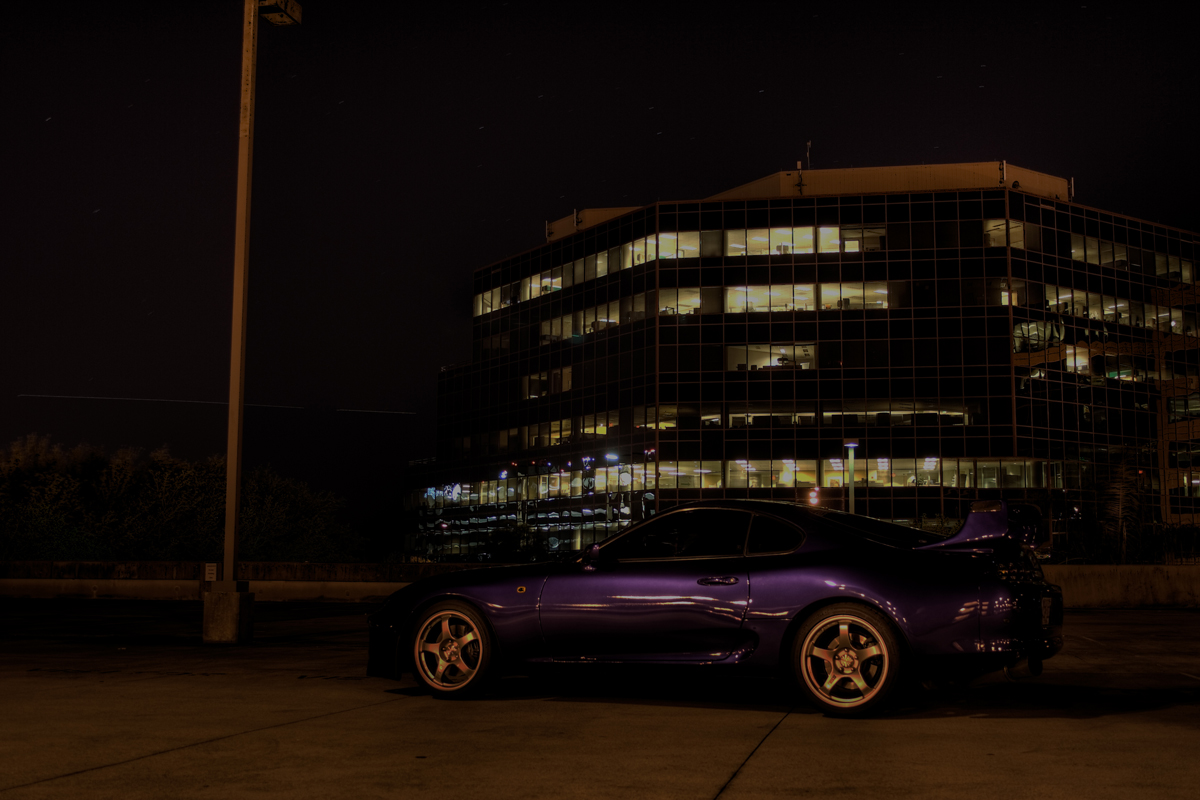car: (365, 484, 1080, 723)
